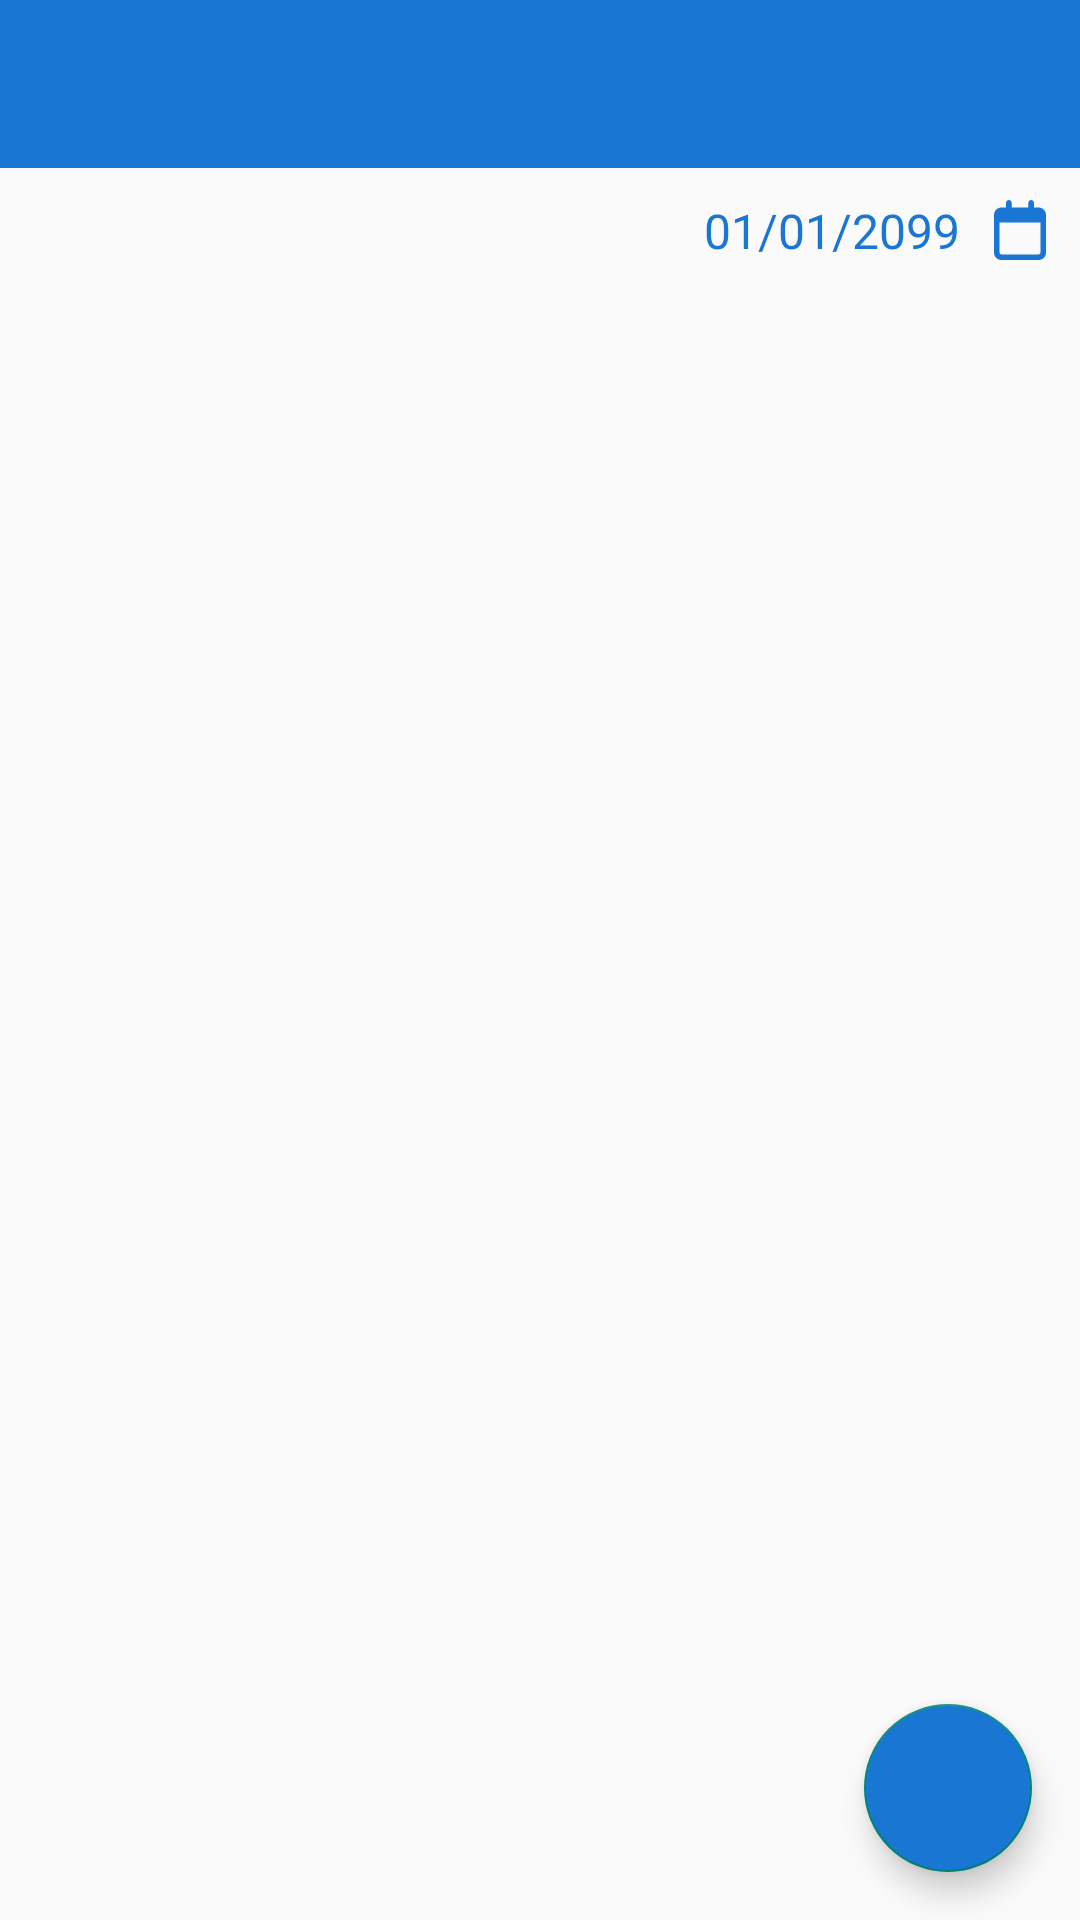

Where to tap for icons on this 1080*1920 app screen, as [x,y]:
calendar: [1020,230]
